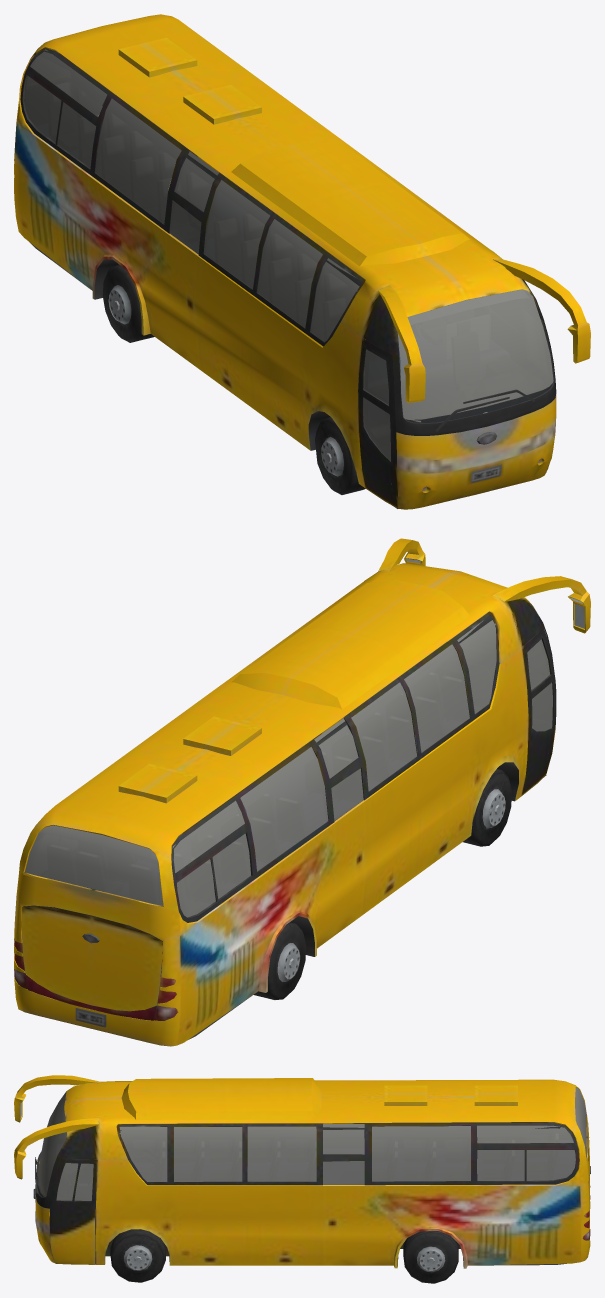
The model's file is car1.glb.
3 views of the same model, one above another, from view 1: azimuth 30°, elevation 25°; view 2: azimuth 150°, elevation 25°; view 3: azimuth 270°, elevation 25° (orthographic). The views are drawn at different scales.
Parts seen in each view (by area): view 1: SM_Bus_01; view 2: SM_Bus_01; view 3: SM_Bus_01.
Boxes of the visible parts, bbox=[...] form: SM_Bus_01: bbox=[14, 14, 590, 509]; SM_Bus_01: bbox=[14, 538, 590, 1046]; SM_Bus_01: bbox=[14, 1075, 590, 1283].
Size of the model in its own units: 3.07 by 3.84 by 12.06.
2 materials, 1 textured.
